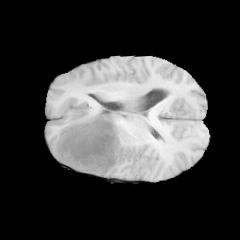glioma: (53, 108, 120, 176)
